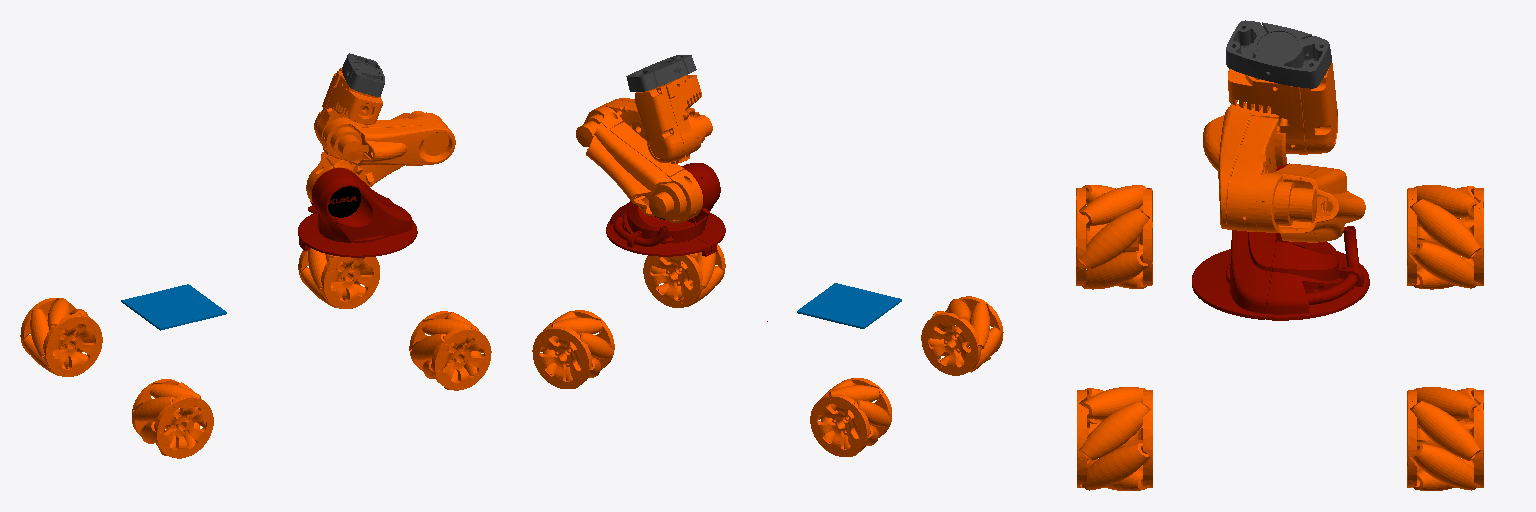
--- Render facts (derived) ---
3 views of the same robot in one strip: view 1: azimuth 30°, elevation 25°; view 2: azimuth 150°, elevation 25°; view 3: azimuth 270°, elevation 25° (orthographic).
Robot: youbot — 29 links, 28 joints (5 revolute, 8 continuous, 2 prismatic, 13 fixed); root link base_footprint; default pose: all joints at 0.
Links seen in each view (by area): view 1: arm_link_1, arm_link_3, wheel_link_bl, wheel_link_br, wheel_link_fr, wheel_link_fl, ar_marker_fixed, arm_link_4, arm_link_2, arm_link_5; view 2: arm_link_2, arm_link_1, wheel_link_bl, wheel_link_fl, wheel_link_br, arm_link_4, wheel_link_fr, ar_marker_fixed, arm_link_5, arm_link_3; view 3: arm_link_1, wheel_link_br, wheel_link_bl, wheel_link_fl, wheel_link_fr, arm_link_3, arm_link_2, arm_link_4, arm_link_5.
Link boxes in pixels (x1,y1,x2,y2): arm_link_1: [298, 168, 417, 257]; arm_link_3: [322, 116, 455, 165]; wheel_link_bl: [20, 298, 102, 376]; wheel_link_br: [132, 379, 213, 458]; wheel_link_fr: [409, 311, 491, 390]; wheel_link_fl: [298, 248, 379, 308]; ar_marker_fixed: [121, 284, 226, 330]; arm_link_4: [314, 68, 382, 155]; arm_link_2: [306, 111, 441, 202]; arm_link_5: [342, 53, 384, 96]; arm_link_2: [576, 106, 702, 222]; arm_link_1: [606, 163, 725, 256]; wheel_link_bl: [810, 378, 891, 456]; wheel_link_fl: [532, 310, 614, 388]; wheel_link_br: [921, 296, 1003, 375]; arm_link_4: [634, 75, 701, 163]; wheel_link_fr: [643, 244, 725, 307]; ar_marker_fixed: [797, 283, 901, 328]; arm_link_5: [626, 55, 696, 91]; arm_link_3: [602, 98, 712, 152]; arm_link_1: [1192, 164, 1369, 320]; wheel_link_br: [1076, 185, 1152, 289]; wheel_link_bl: [1407, 185, 1483, 289]; wheel_link_fl: [1407, 387, 1483, 490]; wheel_link_fr: [1077, 387, 1152, 490]; arm_link_3: [1203, 103, 1286, 231]; arm_link_2: [1256, 163, 1365, 242]; arm_link_4: [1228, 63, 1337, 154]; arm_link_5: [1226, 20, 1331, 88].
Bounding box of the posed robot: 0.582 × 0.3891 × 0.4527 m (x, y, z).
9 mesh visuals loaded from 16 distinct referenced files (9 Collada DAE); not drawn: 8 (reference not matched to a file when rendering).

The robot description file, URDF, robot "youbot":
<?xml version="1.0" ?>
<!-- =================================================================================== -->
<!-- |    This document was autogenerated by xacro from youbot.urdf.xacro              | -->
<!-- |    EDITING THIS FILE BY HAND IS NOT RECOMMENDED                                 | -->
<!-- =================================================================================== -->
<robot name="youbot" xmlns:controller="http://playerstage.sourceforge.net/gazebo/xmlschema/#controller" xmlns:interface="http://playerstage.sourceforge.net/gazebo/xmlschema/#interface" xmlns:sensor="http://playerstage.sourceforge.net/gazebo/xmlschema/#sensor" xmlns:xacro="http://ros.org/wiki/xacro">
  <!-- The following included files set up definitions of parts of the robot body -->
  <!-- misc common stuff? -->
  <!-- youbot base -->
  <!-- youbot plate -->
  <!-- youbot arm -->
  <!-- youbot gripper -->
  <!-- generic simulator_gazebo plugins for starting mechanism control, ros time, ros battery -->
  <gazebo>
    <!--
    <controller:gazebo_ros_controller_manager name="gazebo_ros_controller_manager" plugin="libgazebo_ros_controller_manager.so">
      <alwaysOn>true</alwaysOn>
      <updateRate>1000.0</updateRate>
      <interface:audio name="gazebo_ros_controller_manager_dummy_iface" />
    </controller:gazebo_ros_controller_manager>

    <controller:gazebo_ros_power_monitor name="gazebo_ros_power_monitor_controller" plugin="libgazebo_ros_power_monitor.so">
      <alwaysOn>true</alwaysOn>
      <updateRate>1.0</updateRate>
      <timeout>5</timeout>
      <interface:audio name="power_monitor_dummy_interface" />
      <powerStateTopic>power_state</powerStateTopic>
      <powerStateRate>10.0</powerStateRate>
      <fullChargeCapacity>87.78</fullChargeCapacity>     
      <dischargeRate>-474</dischargeRate>
      <chargeRate>525</chargeRate>
      <dischargeVoltage>15.52</dischargeVoltage>
      <chargeVoltage>16.41</chargeVoltage>
    </controller:gazebo_ros_power_monitor>
  -->
  </gazebo>
  <!-- materials for visualization -->
  <material name="Orange">
    <color rgba="1.0 0.4 0.0 1.0"/>
  </material>
  <material name="Grey">
    <color rgba="0.7 0.7 0.7 1.0"/>
  </material>
  <material name="DarkGrey">
    <color rgba="0.3 0.3 0.3 1.0"/>
  </material>
  <material name="White">
    <color rgba="1.0 1.0 1.0 1.0"/>
  </material>
  <material name="Black">
    <color rgba="0.0 0.0 0.0 1.0"/>
  </material>
  <material name="Red">
    <color rgba="1.0 0.0 0.0 1.0"/>
  </material>
  <material name="Green">
    <color rgba="0.0 1.0 0.0 1.0"/>
  </material>
  <!-- Now we can start using the macros included above to define the actual youbot -->
  <!-- The first use of a macro.  This one was defined in base.urdf.xacro above.
       A macro like this will expand to a set of link and joint definitions, and to additional
       Gazebo-related extensions (sensor plugins, etc).  The macro takes an argument, name, 
       that equals "base", and uses it to generate names for its component links and joints 
       (e.g., base_link).  The included origin block is also an argument to the macro.  By convention, 
       the origin block defines where the component is w.r.t its parent (in this case the parent 
       is the world frame). For more, see http://www.ros.org/wiki/xacro -->
  <!-- foot for arm-->
  <link name="base_footprint">
    <inertial>
      <mass value="0.0001"/>
      <origin rpy="0 0 0" xyz="0 0 -0.05"/>
      <inertia ixx="1.0" ixy="0.0" ixz="0.0" iyy="1.0" iyz="0.0" izz="1.0"/>
    </inertial>
    <visual>
      <origin rpy="0 0 0" xyz="0 0 0"/>
      <geometry>
        <box size="0.001 0.001 0.001"/>
      </geometry>
      <material name="Red"/>
    </visual>
    <collision>
      <origin rpy="0 0 0" xyz="0 0 -0.05"/>
      <geometry>
        <box size="0.001 0.001 0.001"/>
      </geometry>
    </collision>
  </link>
  <joint name="base_footprint_joint" type="fixed">
    <origin rpy="0 0 0" xyz="0 0 0"/>
    <child link="base_link"/>
    <parent link="base_footprint"/>
  </joint>
  <link name="base_link">
    <inertial>
      <mass value="22.0"/>
      <origin xyz="0 0 0"/>
      <inertia ixx="5.652232699207" ixy="-0.009719934438" ixz="1.293988226423" iyy="5.669473158652" iyz="-0.007379583694" izz="3.683196351726"/>
    </inertial>
    <visual>
      <origin rpy="0 0 0" xyz="0 0 0"/>
      <geometry>
        <mesh filename="package://youbot_description/meshes/youbot_base/base.dae"/>
      </geometry>
      <material name="DarkGrey"/>
    </visual>
    <collision>
      <origin rpy="0 0 0" xyz="0 0 0"/>
      <geometry>
        <!--<box size="${base_size_x} ${base_size_y} ${base_size_z}" />-->
        <mesh filename="package://youbot_description/meshes/youbot_base/base_convex.dae"/>
      </geometry>
    </collision>
  </link>
  <joint name="base_laser_front_hokuyo_urg04_laser_joint" type="fixed">
    <axis xyz="0 1 0"/>
    <origin rpy="3.14 0 0" xyz="0.3 0 -0.03"/>
    <parent link="base_link"/>
    <child link="base_laser_front_link"/>
  </joint>
  <link name="base_laser_front_link" type="laser">
    <inertial>
      <mass value="0.16"/>
      <origin rpy="0 0 0" xyz="0 0 0"/>
      <inertia ixx="0.1" ixy="0" ixz="0" iyy="0.1" iyz="0" izz="0.1"/>
    </inertial>
    <visual>
      <origin rpy="0 0 0" xyz="0 0 0"/>
      <geometry>
        <mesh filename="package://youbot_description/meshes/sensors/hokuyo.dae"/>
      </geometry>
      <material name="DarkGrey"/>
    </visual>
    <collision>
      <origin rpy="0 0 0" xyz="0 0 0"/>
      <geometry>
        <mesh filename="package://youbot_description/meshes/sensors/hokuyo_convex.dae"/>
      </geometry>
    </collision>
  </link>
  <gazebo reference="base_laser_front_link">
    <sensor name="base_laser_front" type="ray">
      <ray>
        <scan>
          <horizontal>
            <samples>640</samples>
            <resolution>1.0</resolution>
            <min_angle>-89.9544498168</min_angle>
            <max_angle>89.9544498168</max_angle>
          </horizontal>
        </scan>
        <range>
          <min>0.05</min>
          <max>5.6</max>
          <resolution>0.36</resolution>
        </range>
      </ray>
      <plugin filename="libgazebo_ros_laser.so" name="gazebo_ros_base_laser_front_controller">
        <gaussianNoise>0.000</gaussianNoise>
        <alwaysOn>true</alwaysOn>
        <updateRate>10</updateRate>
        <topicName>scan_front</topicName>
        <frameName>/base_laser_front_link</frameName>
        <interface:laser name="gazebo_ros_base_laser_front_iface"/>
      </plugin>
    </sensor>
  </gazebo>
  <joint name="caster_joint_fl" type="continuous">
    <origin rpy="0 0 0" xyz="0.228 0.158 -0.034"/>
    <axis xyz="0 0 1"/>
    <limit effort="30" velocity="10"/>
    <dynamics damping="1.0" friction="1.0"/>
    <safety_controller k_velocity="10.0"/>
    <parent link="base_link"/>
    <child link="caster_link_fl"/>
  </joint>
  <link name="caster_link_fl">
    <inertial>
      <mass value="0.1"/>
      <origin xyz="0 0 0"/>
      <inertia ixx="0.012411765597" ixy="-0.000711733678" ixz="0.00050272983" iyy="0.015218160428" iyz="-0.000004273467" izz="0.011763977943"/>
    </inertial>
  </link>
  <joint name="wheel_joint_fl" type="continuous">
    <axis xyz="0 1 0"/>
    <limit effort="30" velocity="10"/>
    <origin rpy="0 0 0" xyz="0.0 0.0 0.0"/>
    <parent link="caster_link_fl"/>
    <dynamics damping="1.0" friction="1.0"/>
    <safety_controller k_velocity="10.0"/>
    <child link="wheel_link_fl"/>
  </joint>
  <link name="wheel_link_fl">
    <inertial>
      <mass value="0.4"/>
      <origin xyz="0 0 0"/>
      <inertia ixx="0.012411765597" ixy="-0.000711733678" ixz="0.00050272983" iyy="0.015218160428" iyz="-0.000004273467" izz="0.011763977943"/>
    </inertial>
    <visual>
      <origin rpy="0 0 0" xyz="0 0 0"/>
      <geometry>
        <mesh filename="package://youbot_description/meshes/youbot_base/front-left_wheel.dae"/>
      </geometry>
      <material name="Orange"/>
    </visual>
    <collision>
      <origin rpy="1.570795 0 0" xyz="0 0 0"/>
      <geometry>
        <cylinder length="0.05" radius="0.05"/>
      </geometry>
    </collision>
  </link>
  <joint name="caster_joint_fr" type="continuous">
    <origin rpy="0 0 0" xyz="0.228 -0.158 -0.034"/>
    <axis xyz="0 0 1"/>
    <limit effort="30" velocity="10"/>
    <dynamics damping="1.0" friction="1.0"/>
    <safety_controller k_velocity="10.0"/>
    <parent link="base_link"/>
    <child link="caster_link_fr"/>
  </joint>
  <link name="caster_link_fr">
    <inertial>
      <mass value="0.1"/>
      <origin xyz="0 0 0"/>
      <inertia ixx="0.012411765597" ixy="-0.000711733678" ixz="0.00050272983" iyy="0.015218160428" iyz="-0.000004273467" izz="0.011763977943"/>
    </inertial>
  </link>
  <joint name="wheel_joint_fr" type="continuous">
    <axis xyz="0 1 0"/>
    <limit effort="30" velocity="10"/>
    <dynamics damping="1.0" friction="1.0"/>
    <safety_controller k_velocity="10.0"/>
    <origin rpy="0 0 0" xyz="0.0 0.0 0.0"/>
    <parent link="caster_link_fr"/>
    <child link="wheel_link_fr"/>
  </joint>
  <link name="wheel_link_fr">
    <inertial>
      <mass value="0.4"/>
      <origin xyz="0 0 0"/>
      <inertia ixx="0.012411765597" ixy="-0.000711733678" ixz="0.00050272983" iyy="0.015218160428" iyz="-0.000004273467" izz="0.011763977943"/>
    </inertial>
    <visual>
      <origin rpy="0 0 0" xyz="0 0 0"/>
      <geometry>
        <mesh filename="package://youbot_description/meshes/youbot_base/front-right_wheel.dae"/>
      </geometry>
      <material name="Orange"/>
    </visual>
    <collision>
      <origin rpy="1.570795 0 0" xyz="0 0 0"/>
      <geometry>
        <cylinder length="0.05" radius="0.05"/>
      </geometry>
    </collision>
  </link>
  <joint name="caster_joint_bl" type="continuous">
    <origin rpy="0 0 0" xyz="-0.228 0.158 -0.034"/>
    <axis xyz="0 0 1"/>
    <limit effort="30" velocity="10"/>
    <dynamics damping="1.0" friction="1.0"/>
    <safety_controller k_velocity="10.0"/>
    <parent link="base_link"/>
    <child link="caster_link_bl"/>
  </joint>
  <link name="caster_link_bl">
    <inertial>
      <mass value="0.1"/>
      <origin xyz="0 0 0"/>
      <inertia ixx="0.012411765597" ixy="-0.000711733678" ixz="0.00050272983" iyy="0.015218160428" iyz="-0.000004273467" izz="0.011763977943"/>
    </inertial>
  </link>
  <joint name="wheel_joint_bl" type="continuous">
    <axis xyz="0 1 0"/>
    <limit effort="10" velocity="10"/>
    <limit effort="30" velocity="10"/>
    <dynamics damping="1.0" friction="1.0"/>
    <safety_controller k_velocity="10.0"/>
    <origin rpy="0 0 0" xyz="0.0 0.0 0.0"/>
    <parent link="caster_link_bl"/>
    <child link="wheel_link_bl"/>
  </joint>
  <link name="wheel_link_bl">
    <inertial>
      <mass value="0.4"/>
      <origin xyz="0 0 0"/>
      <inertia ixx="0.012411765597" ixy="-0.000711733678" ixz="0.00050272983" iyy="0.015218160428" iyz="-0.000004273467" izz="0.011763977943"/>
    </inertial>
    <visual>
      <origin rpy="0 0 0" xyz="0 0 0"/>
      <geometry>
        <mesh filename="package://youbot_description/meshes/youbot_base/back-left_wheel.dae"/>
      </geometry>
      <material name="Orange"/>
    </visual>
    <collision>
      <origin rpy="1.570795 0 0" xyz="0 0 0"/>
      <geometry>
        <cylinder length="0.05" radius="0.05"/>
      </geometry>
    </collision>
  </link>
  <joint name="caster_joint_br" type="continuous">
    <origin rpy="0 0 0" xyz="-0.228 -0.158 -0.034"/>
    <axis xyz="0 0 1"/>
    <limit effort="30" velocity="10"/>
    <dynamics damping="1.0" friction="1.0"/>
    <safety_controller k_velocity="10.0"/>
    <parent link="base_link"/>
    <child link="caster_link_br"/>
  </joint>
  <link name="caster_link_br">
    <inertial>
      <mass value="0.1"/>
      <origin xyz="0 0 0"/>
      <inertia ixx="0.012411765597" ixy="-0.000711733678" ixz="0.00050272983" iyy="0.015218160428" iyz="-0.000004273467" izz="0.011763977943"/>
    </inertial>
  </link>
  <gazebo reference="caster_link_br">
    <material>Orange</material>
  </gazebo>
  <joint name="wheel_joint_br" type="continuous">
    <axis xyz="0 1 0"/>
    <limit effort="30" velocity="10"/>
    <dynamics damping="1.0" friction="1.0"/>
    <safety_controller k_velocity="10.0"/>
    <origin rpy="0 0 0" xyz="0.0 0.0 0.0"/>
    <parent link="caster_link_br"/>
    <child link="wheel_link_br"/>
  </joint>
  <link name="wheel_link_br">
    <inertial>
      <mass value="0.4"/>
      <origin xyz="0 0 0"/>
      <inertia ixx="0.012411765597" ixy="-0.000711733678" ixz="0.00050272983" iyy="0.015218160428" iyz="-0.000004273467" izz="0.011763977943"/>
    </inertial>
    <visual>
      <origin rpy="0 0 0" xyz="0 0 0"/>
      <geometry>
        <mesh filename="package://youbot_description/meshes/youbot_base/back-right_wheel.dae"/>
      </geometry>
      <material name="Orange"/>
    </visual>
    <collision>
      <origin rpy="1.570795 0 0" xyz="0 0 0"/>
      <geometry>
        <cylinder length="0.05" radius="0.05"/>
      </geometry>
    </collision>
  </link>
  <gazebo reference="wheel_link_br">
    <material>Orange</material>
  </gazebo>
  <gazebo reference="youbot_base">
    <material value="youbot/DarkGrey"/>
  </gazebo>
  <gazebo reference="wheel_link_fl">
    <material value="youbot/Orange"/>
  </gazebo>
  <gazebo reference="caster_link_fl">
    <material value="youbot/Orange"/>
  </gazebo>
  <gazebo reference="wheel_link_fr">
    <material value="youbot/Orange"/>
  </gazebo>
  <gazebo reference="caster_link_fr">
    <material value="youbot/Orange"/>
  </gazebo>
  <gazebo reference="wheel_link_bl">
    <material value="youbot/Orange"/>
  </gazebo>
  <gazebo reference="caster_link_bl">
    <material value="youbot/Orange"/>
  </gazebo>
  <gazebo reference="wheel_link_br">
    <material value="youbot/Orange"/>
  </gazebo>
  <gazebo reference="caster_link_br">
    <material value="youbot/Orange"/>
  </gazebo>
  <gazebo>
    <plugin filename="libgazebo_ros_p3d.so" name="p3d_base_controller">
      <alwaysOn>true</alwaysOn>
      <updateRate>100.0</updateRate>
      <bodyName>base_link</bodyName>
      <topicName>base_pose_ground_truth</topicName>
      <gaussianNoise>0.01</gaussianNoise>
      <frameName>map</frameName>
      <xyzOffsets>25.7 25.7 0</xyzOffsets>
      <!-- initialize odometry for fake localization-->
      <rpyOffsets>0 0 0</rpyOffsets>
      <interface:position name="p3d_base_position"/>
    </plugin>
    <canonicalBody>base_footprint</canonicalBody>
  </gazebo>
  <transmission name="wheel_trans_fl" type="pr2_mechanism_model/SimpleTransmission">
    <actuator name="wheel_motor_fl"/>
    <joint name="wheel_joint_fl"/>
    <mechanicalReduction>79.2380952381</mechanicalReduction>
  </transmission>
  <transmission name="caster_trans_fl" type="pr2_mechanism_model/SimpleTransmission">
    <actuator name="caster_motor_fl"/>
    <joint name="caster_joint_fl"/>
    <mechanicalReduction>79.2380952381</mechanicalReduction>
  </transmission>
  <transmission name="wheel_trans_fr" type="pr2_mechanism_model/SimpleTransmission">
    <actuator name="wheel_motor_fr"/>
    <joint name="wheel_joint_fr"/>
    <mechanicalReduction>79.2380952381</mechanicalReduction>
  </transmission>
  <transmission name="caster_trans_fr" type="pr2_mechanism_model/SimpleTransmission">
    <actuator name="caster_motor_fr"/>
    <joint name="caster_joint_fr"/>
    <mechanicalReduction>79.2380952381</mechanicalReduction>
  </transmission>
  <transmission name="wheel_trans_bl" type="pr2_mechanism_model/SimpleTransmission">
    <actuator name="wheel_motor_bl"/>
    <joint name="wheel_joint_bl"/>
    <mechanicalReduction>79.2380952381</mechanicalReduction>
  </transmission>
  <transmission name="caster_trans_bl" type="pr2_mechanism_model/SimpleTransmission">
    <actuator name="caster_motor_bl"/>
    <joint name="caster_joint_bl"/>
    <mechanicalReduction>79.2380952381</mechanicalReduction>
  </transmission>
  <transmission name="wheel_trans_br" type="pr2_mechanism_model/SimpleTransmission">
    <actuator name="wheel_motor_br"/>
    <joint name="wheel_joint_br"/>
    <mechanicalReduction>79.2380952381</mechanicalReduction>
  </transmission>
  <transmission name="caster_trans_br" type="pr2_mechanism_model/SimpleTransmission">
    <actuator name="caster_motor_br"/>
    <joint name="caster_joint_br"/>
    <mechanicalReduction>79.2380952381</mechanicalReduction>
  </transmission>
  <joint name="plate_joint" type="fixed">
    <origin rpy="0 0 0" xyz="-0.159 0 0.055"/>
    <parent link="base_link"/>
    <child link="plate_link"/>
  </joint>
  <link name="plate_link">
    <inertial>
      <origin rpy="0 0 0" xyz="0 0 -0.025"/>
      <mass value="1"/>
      <inertia ixx="0.01" ixy="0" ixz="0" iyy="0.01" iyz="0" izz="0.01"/>
    </inertial>
    <visual>
      <origin rpy="0 0 0" xyz="0 0 -0.025"/>
      <geometry>
        <mesh filename="package://youbot_description/meshes/youbot_plate/plate.dae"/>
      </geometry>
      <material name="DarkGrey"/>
    </visual>
    <collision>
      <origin rpy="0 0 0" xyz="0 0 -0.025"/>
      <geometry>
        <mesh filename="package://youbot_description/meshes/youbot_plate/plate_convex.dae"/>
      </geometry>
    </collision>
  </link>
  <gazebo reference="plate_link">
    <material>DarkGrey</material>
  </gazebo>
  <joint name="ar_marker_fixed_joint" type="fixed">
    <origin rpy="0 0 0" xyz="0.025 0 0"/>
    <parent link="plate_link"/>
    <child link="ar_marker_fixed"/>
  </joint>
  <link name="ar_marker_fixed">
    <visual>
      <origin rpy="0 0 0" xyz="0 0 0"/>
      <geometry>
        <box size="0.11 0.11 0.003"/>
      </geometry>
    </visual>
    <!--			<collision>
				<origin xyz="0 0 0" rpy="0 0 0" />
				<geometry>
					<box size="0.08 0.08 0.003" />
				</geometry>
			</collision>
-->
  </link>
  <joint name="arm_joint_0" type="fixed">
    <origin rpy="0 0 0" xyz="0.143 0 0.056"/>
    <parent link="base_link"/>
    <child link="arm_link_0"/>
  </joint>
  <link name="arm_link_0">
    <inertial>
      <!--<origin xyz="0.023 0 0.006" rpy="0 0 0"/>-->
      <origin rpy="0 0 0" xyz="0 0 0"/>
      <mass value="0.845"/>
      <inertia ixx="0.01" ixy="0" ixz="0" iyy="0.01" iyz="0" izz="0.01"/>
    </inertial>
    <visual>
      <origin rpy="0 0 0" xyz="0 0 0"/>
      <geometry>
        <mesh filename="package://youbot_description/meshes/youbot_arm/arm0.dae"/>
      </geometry>
      <material name="DarkGrey"/>
    </visual>
    <collision>
      <!--<origin xyz="0.023 0 0.006" rpy="0 0 0"/>-->
      <origin rpy="0 0 0" xyz="0 0 0"/>
      <geometry>
        <mesh filename="package://youbot_description/meshes/youbot_arm/arm0_convex.dae"/>
        <!--<cylinder length="0.078" radius="0.093"/>-->
      </geometry>
    </collision>
  </link>
  <gazebo reference="arm_link_0">
    <material>DarkGrey</material>
  </gazebo>
  <joint name="arm_joint_1" type="revolute">
    <origin rpy="0 0 2.96705722222" xyz="0.024 0 0.115"/>
    <parent link="arm_link_0"/>
    <child link="arm_link_1"/>
    <axis xyz="0 0 -1"/>
    <!--<calibration rising="${arm_1_ref}" falling="${arm_1_ref}"/>-->
    <dynamics damping="1" friction="1"/>
    <!-- damping - N*s/m, N*s*m/rad -->
    <!-- friction - N, N*m -->
    <limit effort="9.5" lower="0" upper="5.89920788889" velocity="1.570795"/>
    <!--effort - N, N*m-->
    <!--velocity - m/s, rad/s-->
    <safety_controller k_position="20" k_velocity="1.51197323648" soft_lower_limit="0.05" soft_upper_limit="5.84920788889"/>
    <!--k_position N/m, N/rad-->
    <!--k_velocity N*s/m, N*s*m/rad-->
    <!--for details: http://www.ros.org/wiki/pr2_controller_manager/safety_limits-->
  </joint>
  <link name="arm_link_1">
    <inertial>
      <mass value="2.412"/>
      <origin rpy="0 0 0" xyz="0.01489 0.00213 0.00213"/>
      <inertia ixx="0.003863" ixy="-0.000979" ixz="0.000000" iyy="0.006196" iyz="0.000000" izz="0.006369"/>
    </inertial>
    <visual>
      <origin rpy="3.14159 0 0" xyz="0 0 0"/>
      <geometry>
        <mesh filename="package://youbot_description/meshes/youbot_arm/arm1.dae"/>
      </geometry>
      <!--<material name="Orange" />-->
    </visual>
    <collision>
      <!--<origin xyz="0 0 -0.003" rpy="0 0 0" />-->
      <origin rpy="3.14159 0 0" xyz="0 0 0"/>
      <geometry>
        <mesh filename="package://youbot_description/meshes/youbot_arm/arm_joint_1_convex.stl"/>
        <!--<cylinder length="0.102" radius="0.080"/>-->
      </geometry>
    </collision>
  </link>
  <gazebo reference="arm_link_1">
    <material>Orange</material>
  </gazebo>
  <joint name="arm_joint_2" type="revolute">
    <origin rpy="0 -1.13446305556 0" xyz="0.033 0 0"/>
    <parent link="arm_link_1"/>
    <child link="arm_link_2"/>
    <axis xyz="0 1 0"/>
    <!--<calibration rising="${arm_2_ref}" falling="${arm_2_ref}"/>-->
    <dynamics damping="1" friction="1"/>
    <limit effort="9.5" lower="0" upper="2.70525805556" velocity="1.570795"/>
    <safety_controller k_position="20" k_velocity="6.04789294593" soft_lower_limit="0.05" soft_upper_limit="2.65525805556"/>
  </joint>
  <link name="arm_link_2">
    <inertial>
      <mass value="1.155"/>
      <origin rpy="0 0 0" xyz="0.10453 0.0017 -0.00297"/>
      <inertia ixx="0.000823" ixy="0.000000" ixz="-0.000000" iyy="0.004447" iyz="0.000000" izz="0.004439"/>
    </inertial>
    <visual>
      <origin rpy="-1.570795 -1.570795 0" xyz="0 0 0"/>
      <geometry>
        <mesh filename="package://youbot_description/meshes/youbot_arm/arm2.dae"/>
      </geometry>
      <material name="Orange"/>
    </visual>
    <collision>
      <!--<origin xyz="0.001 -0.041 0.074" rpy="0 0 0" />-->
      <origin rpy="-1.570795 -1.570795 0" xyz="0 0 0"/>
      <geometry>
        <mesh filename="package://youbot_description/meshes/youbot_arm/arm_joint_2_convex.stl"/>
        <!--<box size="0.074 0.082 0.222"/>-->
      </geometry>
    </collision>
  </link>
  <gazebo reference="arm_link_2">
    <material>Orange</material>
  </gazebo>
  <joint name="arm_joint_3" type="revolute">
    <origin rpy="0 2.54817855556 0" xyz="0.000 0.000 0.155"/>
    <parent link="arm_link_2"/>
    <child link="arm_link_3"/>
    <axis xyz="0 1 0"/>
    <dynamics damping="1" friction="1"/>
    <limit effort="6.0" lower="-5.1836235" upper="0" velocity="1.570795"/>
    <safety_controller k_position="20" k_velocity="50" soft_lower_limit="-5.1336235" soft_upper_limit="-0.05"/>
  </joint>
  <link name="arm_link_3">
    <inertial>
      <mass value="0.934"/>
      <origin rpy="0 0 0" xyz="0.0001 0.0967 0.02107"/>
      <inertia ixx="0.002459" ixy="0.000000" ixz="0.000000" iyy="0.002571" iyz="-0.000000" izz="0.000535"/>
    </inertial>
    <visual>
      <origin rpy="1.570795 0 3.14159" xyz="0 0 0"/>
      <geometry>
        <mesh filename="package://youbot_description/meshes/youbot_arm/arm3.dae"/>
      </geometry>
      <material name="Orange"/>
    </visual>
    <collision>
      <!--<origin xyz="0.000 0.025 0.067" rpy="0 0 0" />-->
      <origin rpy="1.570795 0 3.14159" xyz="0 0 0"/>
      <geometry>
        <mesh filename="package://youbot_description/meshes/youbot_arm/arm_joint_3_convex.stl"/>
        <!--<box size="0.064 0.054 0.192"/>-->
      </geometry>
    </collision>
  </link>
  <gazebo reference="arm_link_3">
    <material>Orange</material>
  </gazebo>
  <joint name="arm_joint_4" type="revolute">
    <origin rpy="0 -1.78896097222 0" xyz="0.000 0.000 0.135"/>
    <parent link="arm_link_3"/>
    <child link="arm_link_4"/>
    <axis xyz="0 1 0"/>
    <!--<calibration rising="${arm_4_ref}" falling="${arm_4_ref}"/>-->
    <dynamics damping="1" friction="1"/>
    <limit effort="2.0" lower="0" upper="3.57792194444" velocity="1.570795"/>
    <safety_controller k_position="20" k_velocity="100" soft_lower_limit="0" soft_upper_limit="3.52792194444"/>
  </joint>
  <link name="arm_link_4">
    <inertial>
      <mass value="0.877"/>
      <origin rpy="0 0 0" xyz="0.00011 0.05103 -0.02319"/>
      <inertia ixx="0.000869" ixy="0.000000" ixz="-0.000000" iyy="0.001173" iyz="-0.000231" izz="0.001091"/>
    </inertial>
    <visual>
      <origin rpy="1.570795 0 3.14159" xyz="0 0 0"/>
      <geometry>
        <mesh filename="package://youbot_description/meshes/youbot_arm/arm4.dae"/>
      </geometry>
      <material name="Orange"/>
    </visual>
    <collision>
      <!--<origin xyz="0 0 0.026" rpy="0 0 0" />-->
      <origin rpy="1.570795 0 3.14159" xyz="0 0 0"/>
      <geometry>
        <mesh filename="package://youbot_description/meshes/youbot_arm/arm_joint_4_convex.stl"/>
        <!--<box size="0.058 0.100 0.118"/>-->
      </geometry>
    </collision>
  </link>
  <gazebo reference="arm_link_4">
    <material>Orange</material>
  </gazebo>
  <joint name="arm_joint_5" type="revolute">
    <origin rpy="0 0 2.92342402778" xyz="0 0 0.114"/>
    <parent link="arm_link_4"/>
    <child link="arm_link_5"/>
    <axis xyz="0 0 -1"/>
    <!--<calibration rising="${arm_5_ref}" falling="${arm_5_ref}"/>-->
    <dynamics damping="1" friction="1"/>
    <limit effort="1" lower="0" upper="5.84684805556" velocity="1.570795"/>
    <safety_controller k_position="20" k_velocity="100" soft_lower_limit="0" soft_upper_limit="5.79684805556"/>
  </joint>
  <link name="arm_link_5">
    <inertial>
      <mass value="0.251"/>
      <origin rpy="0 0 0" xyz="0.0 0.00115 -0.01683"/>
      <inertia ixx="0.000280" ixy="0.000000" ixz="0.000000" iyy="0.000339" iyz="0.000000" izz="0.000119"/>
    </inertial>
    <visual>
      <origin rpy="0 0 0" xyz="0 0 0"/>
      <geometry>
        <mesh filename="package://youbot_description/meshes/youbot_arm/arm5.dae"/>
      </geometry>
      <material name="DarkGrey"/>
    </visual>
    <collision>
      <origin rpy="0 0 0" xyz="0 0 0"/>
      <geometry>
        <mesh filename="package://youbot_description/meshes/youbot_arm/arm_joint_5_convex.stl"/>
        <!--<box size="0.054 0.096 0.030"/>-->
      </geometry>
    </collision>
  </link>
  <gazebo reference="arm_link_5">
    <material>DarkGrey</material>
  </gazebo>
  <gazebo>
    <link name="arm_link_0">
      <gravity>false</gravity>
    </link>
  </gazebo>
  <gazebo reference="arm_link_1">
    <gravity>false</gravity>
  </gazebo>
  <gazebo reference="arm_link_2">
    <gravity>false</gravity>
  </gazebo>
  <gazebo reference="arm_link_3">
    <gravity>false</gravity>
  </gazebo>
  <gazebo reference="arm_link_4">
    <gravity>false</gravity>
  </gazebo>
  <gazebo reference="arm_link_5">
    <gravity>false</gravity>
  </gazebo>
  <transmission name="arm_trans_1" type="pr2_mechanism_model/SimpleTransmission">
    <actuator name="arm_motor_1"/>
    <joint name="arm_joint_1"/>
    <mechanicalReduction>1</mechanicalReduction>
  </transmission>
  <transmission name="arm_trans_2" type="pr2_mechanism_model/SimpleTransmission">
    <actuator name="arm_motor_2"/>
    <joint name="arm_joint_2"/>
    <mechanicalReduction>1</mechanicalReduction>
  </transmission>
  <transmission name="arm_trans_3" type="pr2_mechanism_model/SimpleTransmission">
    <actuator name="arm_motor_3"/>
    <joint name="arm_joint_3"/>
    <mechanicalReduction>1</mechanicalReduction>
  </transmission>
  <transmission name="arm_trans_4" type="pr2_mechanism_model/SimpleTransmission">
    <actuator name="arm_motor_4"/>
    <joint name="arm_joint_4"/>
    <mechanicalReduction>1</mechanicalReduction>
  </transmission>
  <transmission name="arm_trans_5" type="pr2_mechanism_model/SimpleTransmission">
    <actuator name="arm_motor_5"/>
    <joint name="arm_joint_5"/>
    <mechanicalReduction>1</mechanicalReduction>
  </transmission>
  <joint name="gripper_palm_joint" type="fixed">
    <origin rpy="0 -1.570795 3.14159" xyz="-0.0027 0 .016"/>
    <parent link="arm_link_5"/>
    <child link="gripper_palm_link"/>
  </joint>
  <link name="gripper_palm_link">
    <inertial>
      <origin rpy="3.14159 -1.570795  0" xyz="0 0 0"/>
      <mass value="0.1"/>
      <inertia ixx="0.01" ixy="0" ixz="0" iyy="0.01" iyz="0" izz="0.01"/>
    </inertial>
    <visual>
      <origin rpy="3.14159 -1.570795 0" xyz="0 0 0"/>
      <geometry>
        <mesh filename="package://youbot_description/meshes/youbot_gripper/palm.dae"/>
      </geometry>
      <material name="Black"/>
    </visual>
    <collision>
      <origin rpy="3.14159 -1.570795 0" xyz="0 0 0"/>
      <geometry>
        <!--<box size="0.050 0.094 0.054"/>-->
        <mesh filename="package://youbot_description/meshes/youbot_gripper/palm_convex.dae"/>
      </geometry>
    </collision>
  </link>
  <gazebo reference="gripper_palm_link">
    <material>Black</material>
  </gazebo>
  <joint name="gripper_finger_joint_l" type="prismatic">
    <origin rpy="0 -1.570795 3.14159" xyz="0.046 0.010 0.003 "/>
    <parent link="gripper_palm_link"/>
    <child link="gripper_finger_link_l"/>
    <axis xyz="0 -1 0"/>
    <dynamics damping="1.0" friction="1.0"/>
    <limit effort="1" lower="0" upper="0.0115" velocity="0.1"/>
    <safety_controller k_position="20" k_velocity="25" soft_lower_limit="0.001" soft_upper_limit="0.011"/>
  </joint>
  <link name="gripper_finger_link_l">
    <inertial>
      <origin rpy="0 0 0" xyz="0 -0.001 0"/>
      <mass value="0.01"/>
      <inertia ixx="0.01" ixy="0" ixz="0" iyy="0.01" iyz="0" izz="0.01"/>
    </inertial>
    <visual>
      <origin rpy="0 0 0" xyz="0 0 0"/>
      <geometry>
        <mesh filename="package://youbot_description/meshes/youbot_gripper/finger.dae"/>
      </geometry>
      <material name="Black"/>
    </visual>
    <collision>
      <origin rpy="0 0 0" xyz="0 0 0"/>
      <geometry>
        <!--<box size="0.014 0.020 0.046"/>-->
        <mesh filename="package://youbot_description/meshes/youbot_gripper/finger_convex.dae"/>
      </geometry>
    </collision>
  </link>
  <gazebo reference="gripper_finger_link_l">
    <material>Black</material>
  </gazebo>
  <joint name="gripper_finger_joint_r" type="prismatic">
    <origin rpy="0 1.570795 0" xyz="0.046 -0.010 0.003"/>
    <parent link="gripper_palm_link"/>
    <child link="gripper_finger_link_r"/>
    <axis xyz="0 -1 0"/>
    <dynamics damping="1.0" friction="1.0"/>
    <limit effort="1" lower="0" upper="0.0115" velocity="0.1"/>
    <safety_controller k_position="20" k_velocity="25" soft_lower_limit="0.001" soft_upper_limit="0.011"/>
  </joint>
  <link name="gripper_finger_link_r">
    <inertial>
      <origin rpy="0 0 0" xyz="0.000 -0.001 0"/>
      <mass value="0.01"/>
      <inertia ixx="0.01" ixy="0" ixz="0" iyy="0.01" iyz="0" izz="0.01"/>
    </inertial>
    <visual>
      <origin rpy="0 0 0" xyz="0 0 0"/>
      <geometry>
        <mesh filename="package://youbot_description/meshes/youbot_gripper/finger.dae"/>
      </geometry>
      <material name="Black"/>
    </visual>
    <collision>
      <origin rpy="0 0 0" xyz="0.000 0 0"/>
      <geometry>
        <!--<box size="0.014 0.020 0.046"/>-->
        <mesh filename="package://youbot_description/meshes/youbot_gripper/finger_convex.dae"/>
      </geometry>
    </collision>
  </link>
  <gazebo reference="gripper_finger_link_r">
    <material>Black</material>
  </gazebo>
  <link name="xtion_camera">
    <inertial>
      <mass value="0.1"/>
      <origin rpy="0 0 0" xyz="0 0 0"/>
      <inertia ixx="0.0001" ixy="0" ixz="0" iyy="0.0001" iyz="0" izz="0.0001"/>
    </inertial>
    <visual>
      <origin rpy="1.570795 0 1.570795" xyz="0.02 -0.03 0"/>
      <geometry>
        <mesh filename="package://youbot_description/meshes/sensors/asus_xtion_pro_live_camera.dae" scale="0.001 0.001 0.001"/>
      </geometry>
      <material name="Black"/>
    </visual>
    <collision>
      <origin rpy="1.570795 0 1.570795" xyz="0.02 -0.03 0"/>
      <geometry>
        <box size="0.2 0.06 0.07"/>
        <!-- 
	  <mesh filename="package://youbot_description/meshes/sensors/asus_xtion_pro_live_camera.dae" scale="0.001 0.001 0.001"/>
-->
      </geometry>
    </collision>
  </link>
  <joint name="gripper_palm_link_xtion_joint" type="fixed">
    <origin rpy="0.0201114 0.00763208 -0.01789265" xyz="-0.0100 0.0301838 0.0559352"/>
    <parent link="gripper_palm_link"/>
    <child link="xtion_camera"/>
  </joint>
  <link name="xtion_depth_frame">
    <inertial>
      <mass value="0.01"/>
      <origin xyz="0 0 0"/>
      <inertia ixx="0.1" ixy="0" ixz="0" iyy="0.1" iyz="0" izz="0.1"/>
    </inertial>
  </link>
  <joint name="xtion_depth_joint" type="fixed">
    <parent link="xtion_camera"/>
    <child link="xtion_depth_frame"/>
    <origin rpy="0 0 0" xyz="0.03 0.015 0"/>
  </joint>
  <link name="xtion_depth_optical_frame">
    <inertial>
      <mass value="0.01"/>
      <origin xyz="0 0 0"/>
      <inertia ixx="0.1" ixy="0" ixz="0" iyy="0.1" iyz="0" izz="0.1"/>
    </inertial>
  </link>
  <joint name="xtion_depth_optical_joint" type="fixed">
    <parent link="xtion_camera"/>
    <child link="xtion_depth_optical_frame"/>
    <origin rpy="-1.570795 0 -1.570795" xyz="0.03 0.015 0"/>
  </joint>
  <link name="xtion_rgb_frame">
    <inertial>
      <mass value="0.01"/>
      <origin xyz="0 0 0"/>
      <inertia ixx="0.1" ixy="0" ixz="0" iyy="0.1" iyz="0" izz="0.1"/>
    </inertial>
  </link>
  <joint name="xtion_rgb_joint" type="fixed">
    <parent link="xtion_camera"/>
    <child link="xtion_rgb_frame"/>
    <origin rpy="0 0 0" xyz="0.03 -0.005 0"/>
  </joint>
  <link name="xtion_rgb_optical_frame">
    <inertial>
      <mass value="0.01"/>
      <origin xyz="0 0 0"/>
      <inertia ixx="0.1" ixy="0" ixz="0" iyy="0.1" iyz="0" izz="0.1"/>
    </inertial>
  </link>
  <joint name="xtion_rgb_optical_joint" type="fixed">
    <parent link="xtion_camera"/>
    <child link="xtion_rgb_optical_frame"/>
    <origin rpy="-1.570795 0 -1.570795" xyz="0.03 -0.005 0"/>
  </joint>
  <link name="xtion_laser_frame">
    <inertial>
      <mass value="0.01"/>
      <origin xyz="0 0 0"/>
      <inertia ixx="0.1" ixy="0" ixz="0" iyy="0.1" iyz="0" izz="0.1"/>
    </inertial>
  </link>
  <joint name="xtion_laser_joint" type="fixed">
    <parent link="xtion_camera"/>
    <child link="xtion_laser_frame"/>
    <origin rpy="0 0 0" xyz="0.03 -0.055 0"/>
  </joint>
  <link name="xtion_laser_optical_frame">
    <inertial>
      <mass value="0.01"/>
      <origin xyz="0 0 0"/>
      <inertia ixx="0.1" ixy="0" ixz="0" iyy="0.1" iyz="0" izz="0.1"/>
    </inertial>
  </link>
  <joint name="xtion_laser_optical_joint" type="fixed">
    <parent link="xtion_camera"/>
    <child link="xtion_laser_optical_frame"/>
    <origin rpy="1.570795 0 -1.570795" xyz="0.03 -0.055 0"/>
  </joint>
  <gazebo reference="xtion_depth_frame">
    <sensor name="xtion_depth_frame_sensor" type="camera">
      <camera>
        <horizontal_fov>57.0</horizontal_fov>
        <image>
          <format>R8G8B8</format>
          <width>640</width>
          <height>480</height>
        </image>
        <clip>
          <near>0.01</near>
          <far>5</far>
        </clip>
      </camera>
      <update_rate>20.0</update_rate>
      <!--<baseline>0.2</baseline>-->
      <plugin filename="libgazebo_ros_camera.so" name="xtion_depth_frame_controller">
        <alwaysOn>true</alwaysOn>
        <updateRate>20.0</updateRate>
        <imageTopicName>/camera/ir/image_raw</imageTopicName>
        <cameraInfoTopicName>/camera/ir/camera_info</cameraInfoTopicName>
        <depthImageTopicName>/camera/depth/image_raw</depthImageTopicName>
        <depthImageInfoTopicName>/camera/depth/camera_info</depthImageInfoTopicName>
        <pointCloudTopicName>/camera/depth/points</pointCloudTopicName>
        <frameName>/xtion_depth_optical_frame</frameName>
        <pointCloudCutoff>0.5</pointCloudCutoff>
        <distortion_k1>0.00000001</distortion_k1>
        <distortion_k2>0.00000001</distortion_k2>
        <distortion_k3>0.00000001</distortion_k3>
        <distortion_t1>0.00000001</distortion_t1>
        <distortion_t2>0.00000001</distortion_t2>
      </plugin>
    </sensor>
  </gazebo>
  <gazebo reference="xtion_rgb_frame">
    <sensor name="xtion_rgb_frame_sensor" type="camera">
      <camera>
        <image>
          <format>R8G8B8</format>
          <width>640</width>
          <height>480</height>
        </image>
        <horizontal_fov>57</horizontal_fov>
        <clip>
          <near>0.01</near>
          <far>5</far>
        </clip>
      </camera>
      <update_rate>20.0</update_rate>
      <!--<baseline>0.2</baseline>-->
      <plugin filename="libgazebo_ros_camera.so" name="xtion_rgb_frame_controller">
        <alwaysOn>true</alwaysOn>
        <updateRate>20.0</updateRate>
        <imageTopicName>/camera/rgb/image_raw</imageTopicName>
        <cameraInfoTopicName>/camera/rgb/camera_info</cameraInfoTopicName>
        <frameName>/xtion_rgb_optical_frame</frameName>
        <pointCloudCutoff>0.5</pointCloudCutoff>
        <distortion_k1>0.00000001</distortion_k1>
        <distortion_k2>0.00000001</distortion_k2>
        <distortion_k3>0.00000001</distortion_k3>
        <distortion_t1>0.00000001</distortion_t1>
        <distortion_t2>0.00000001</distortion_t2>
      </plugin>
    </sensor>
  </gazebo>
  <gazebo reference="gripper_palm_link">
    <material>Gazebo/Black</material>
    <gravity>false</gravity>
    <selfCollide>true</selfCollide>
  </gazebo>
  <gazebo reference="gripper_finger_l_link">
    <material>Gazebo/Black</material>
    <gravity>false</gravity>
    <selfCollide>true</selfCollide>
  </gazebo>
  <gazebo reference="gripper_finger_r_link">
    <material>Gazebo/Black</material>
    <gravity>false</gravity>
    <selfCollide>true</selfCollide>
  </gazebo>
  <transmission name="gripper_finger_l_trans" type="pr2_mechanism_model/SimpleTransmission">
    <actuator name="gripper_finger_l_motor"/>
    <joint name="gripper_finger_joint_l"/>
    <mechanicalReduction>1</mechanicalReduction>
  </transmission>
  <transmission name="gripper_finger_r_trans" type="pr2_mechanism_model/SimpleTransmission">
    <actuator name="gripper_finger_r_motor"/>
    <joint name="gripper_finger_joint_r"/>
    <mechanicalReduction>1</mechanicalReduction>
  </transmission>
</robot>
